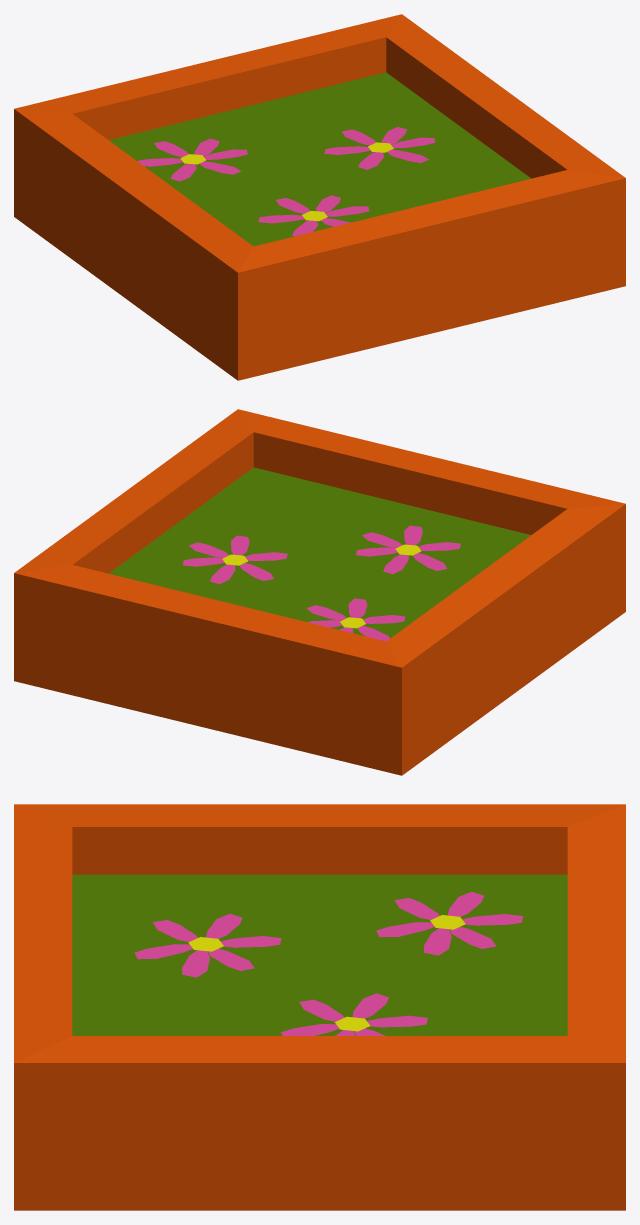
Rendered from Fence.fbx.
The picture shows the model from 3 angles, top to bottom: view 1: azimuth 30°, elevation 25°; view 2: azimuth 150°, elevation 25°; view 3: azimuth 270°, elevation 25°; orthographic projection. The views are drawn at different scales.
Parts seen in each view (by area): view 1: Pot; view 2: Pot; view 3: Pot.
Part boxes in pixels (left/top/right/bottom): Pot: left=14, top=14, right=625, bottom=380; Pot: left=14, top=409, right=625, bottom=775; Pot: left=14, top=804, right=625, bottom=1210.
Size of the model in its own units: 95 by 25.66 by 95.
